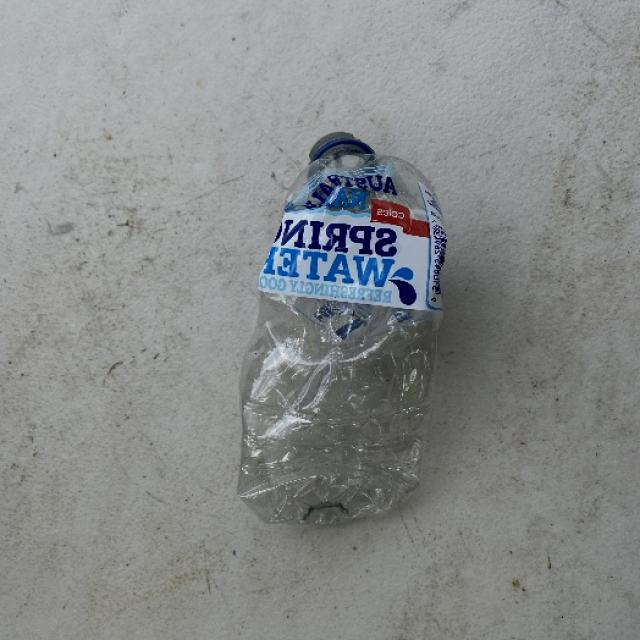inorganic: (228, 128, 457, 535)
